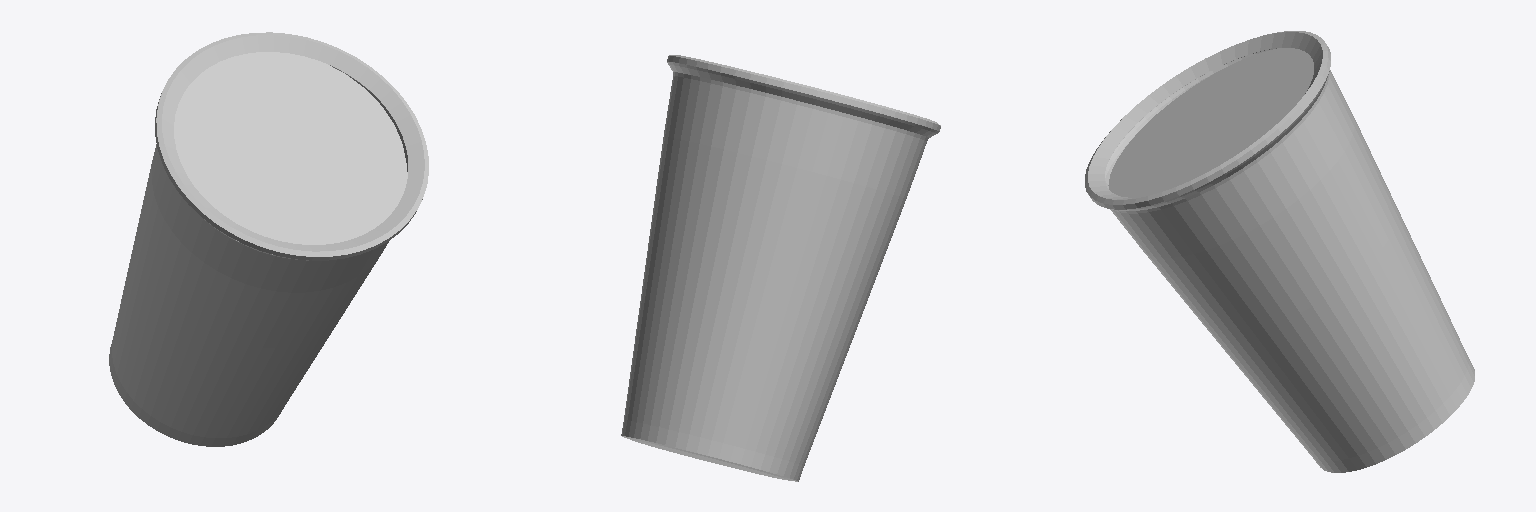
The picture shows the model from 3 angles: view 1: azimuth 30°, elevation 25°; view 2: azimuth 150°, elevation 25°; view 3: azimuth 270°, elevation 25°; orthographic projection.
Visible parts, largest first — view 1: cup_OBJ, Circle; view 2: cup_OBJ; view 3: cup_OBJ, Circle.
Part boxes in pixels (left/top/right/bottom): cup_OBJ: left=109, top=32, right=428, bottom=446; Circle: left=174, top=52, right=406, bottom=244; cup_OBJ: left=621, top=55, right=940, bottom=481; cup_OBJ: left=1085, top=31, right=1474, bottom=472; Circle: left=1108, top=48, right=1313, bottom=197.
Size of the model in its own units: 0.8208 by 1.3 by 1.14.